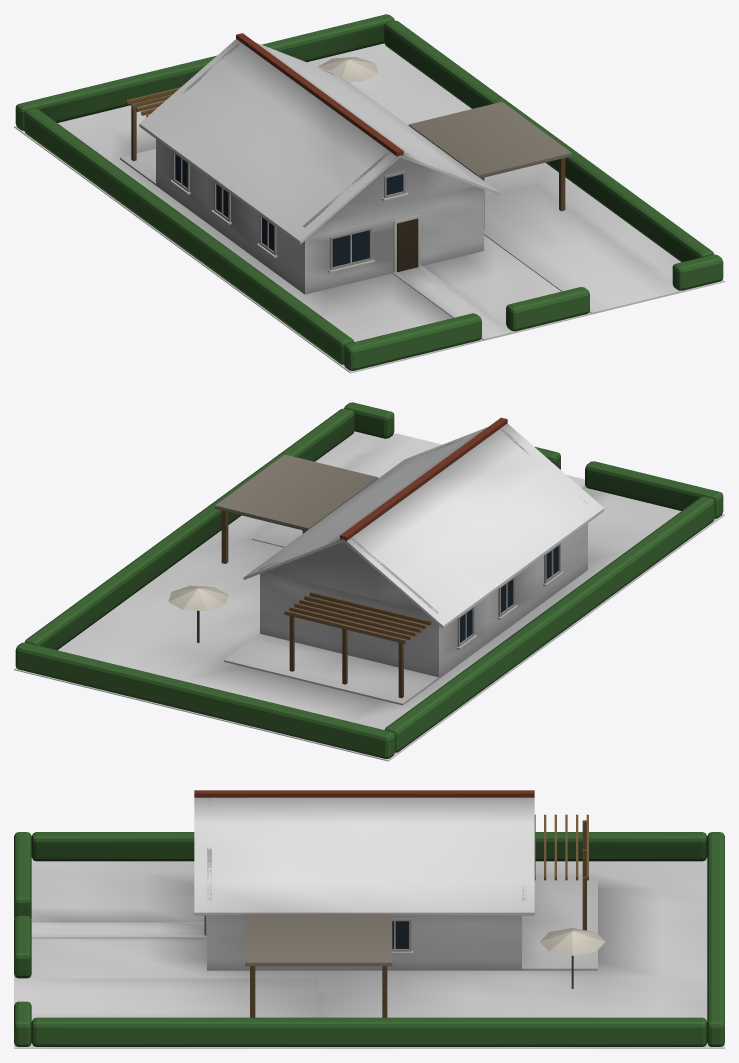
File: ladrillo-B1fgzf5O.glb
3 renders of one model, top to bottom at view 1: azimuth 30°, elevation 25°; view 2: azimuth 150°, elevation 25°; view 3: azimuth 270°, elevation 25°, orthographic. The views are drawn at different scales.
Visible parts, largest first — view 1: techo, pasto, pieza.008, pieza.006, pieza.004, pieza.005, pieza.003, pieza.013, pieza, mojinete, pieza.001, pieza.007 (+6 smaller); view 2: pasto, techo, pieza.008, pieza.003, pieza.004, pieza.005, pieza.013, pieza.014, mojinete.001, pieza, pieza.006, cumbrera (+8 smaller); view 3: pasto, techo, pieza.005, pieza.006, pieza.004, pieza.008, pieza.013, pieza.014, pieza.003, pieza.007, cumbrera, pieza (+4 smaller).
Part boxes in pixels (left/top/right/bottom): techo: left=139, top=39, right=500, bottom=244; pasto: left=14, top=43, right=724, bottom=373; pieza.008: left=156, top=139, right=483, bottom=294; pieza.006: left=484, top=186, right=678, bottom=313; pieza.004: left=24, top=108, right=353, bottom=364; pieza.005: left=384, top=20, right=714, bottom=262; pieza.003: left=15, top=14, right=394, bottom=130; pieza.013: left=408, top=101, right=571, bottom=178; pieza: left=343, top=313, right=481, bottom=370; mojinete: left=303, top=151, right=476, bottom=227; pieza.001: left=506, top=287, right=589, bottom=331; pieza.007: left=392, top=265, right=512, bottom=339; pasto: left=14, top=431, right=724, bottom=761; techo: left=243, top=423, right=604, bottom=628; pieza.008: left=260, top=523, right=587, bottom=678; pieza.003: left=15, top=642, right=395, bottom=758; pieza.004: left=385, top=496, right=714, bottom=752; pieza.005: left=24, top=408, right=354, bottom=650; pieza.013: left=215, top=454, right=378, bottom=531; pieza.014: left=224, top=634, right=438, bottom=705; mojinete.001: left=258, top=537, right=438, bottom=613; pieza: left=585, top=461, right=723, bottom=518; pieza.006: left=252, top=433, right=441, bottom=547; cumbrera: left=340, top=417, right=507, bottom=540; pasto: left=14, top=857, right=724, bottom=1048; techo: left=194, top=797, right=534, bottom=915; pieza.005: left=31, top=1017, right=707, bottom=1046; pieza.006: left=14, top=978, right=318, bottom=1021; pieza.004: left=31, top=832, right=707, bottom=861; pieza.008: left=207, top=915, right=521, bottom=970; pieza.013: left=245, top=914, right=392, bottom=966; pieza.014: left=522, top=876, right=597, bottom=970; pieza.003: left=707, top=832, right=724, bottom=1046; pieza.007: left=31, top=922, right=206, bottom=938; cumbrera: left=194, top=790, right=534, bottom=797; pieza: left=14, top=832, right=31, bottom=918.
Bounding box in the file's own units: 18 × 5.8 × 28.
